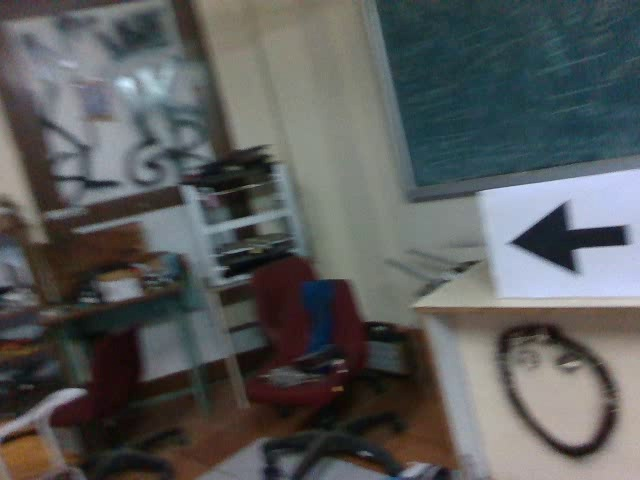Left: (500, 194, 635, 281)
